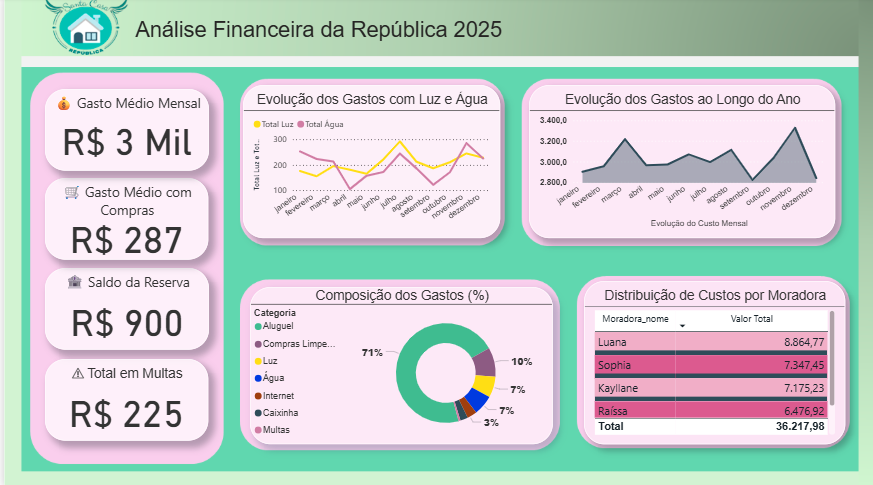

What the dashboard file says about the page in this screenshot:
{"tool":"powerbi","page":{"name":"👥 Distribuição de Custos por Moradora","canvas":[1280,720],"ordinal":0},"visuals":[{"type":"lineChart","title":" Evolução dos Gastos com Luz e Água","fields":{"Y":["FatoGastos.Total Luz","FatoGastos.Total Água"],"Category":["DimCalendario.Mes.Variation.Hierarquia de datas.Mês"]},"box":[351.2,129.3,377.6,224.8],"z":0},{"type":"card","title":"🏦 Saldo da Reserva","fields":{"Values":["FatoGastos.Total Caixinha"]},"box":[60,398.2,241,120.5],"z":1000},{"type":"card","title":"⚠ Total em Multas","fields":{"Values":["FatoGastos.Total Multas"]},"box":[60,531.9,239.5,120.5],"z":2000},{"type":"card","title":"🛒 Gasto Médio com Compras","fields":{"Values":["FatoGastos.Compras Limpeza – Média Mensal"]},"box":[60,266,239.5,120.5],"z":3000},{"type":"tableEx","title":" Distribuição de Custos por Moradora","fields":{"Values":["DimMoradora.Moradora_nome","FatoGastos.Valor Total"]},"box":[852.2,417.3,383.5,239.5],"z":4000},{"type":"card","title":"💰 Gasto Médio Mensal","fields":{"Values":["FatoGastos.Gasto Médio Mensal"]},"box":[60,135.2,241,120.5],"z":5000},{"type":"donutChart","title":" Composição dos Gastos (%)","fields":{"Y":["FatoGastos.Valor Total"],"Category":["DimCategoria.Categoria"]},"box":[361.5,426.1,445.2,230.7],"z":6000},{"type":"areaChart","title":" Evolução dos Gastos ao Longo do Ano","fields":{"Category":["DimCalendario.Mes.Variation.Hierarquia de datas.Mês"],"Y":["FatoGastos.Mês Mais Caro"]},"box":[771.4,129.3,449.6,224.8],"z":7000},{"type":"textbox","box":[117,25.4,689.5,109.4],"z":8000}]}

Visuals, with their boxes in screenshot pixels (x1, y1, x2, y2), scaled from the page's 1280x720 canvas onto the 873x485 screenshot:
" Evolução dos Gastos com Luz e Água" lineChart: rect(240, 87, 497, 239)
"🏦 Saldo da Reserva" card: rect(41, 268, 205, 349)
"⚠ Total em Multas" card: rect(41, 358, 204, 439)
"🛒 Gasto Médio com Compras" card: rect(41, 179, 204, 260)
" Distribuição de Custos por Moradora" tableEx: rect(581, 281, 843, 442)
"💰 Gasto Médio Mensal" card: rect(41, 91, 205, 172)
" Composição dos Gastos (%)" donutChart: rect(247, 287, 550, 442)
" Evolução dos Gastos ao Longo do Ano" areaChart: rect(526, 87, 833, 239)
textbox: rect(80, 17, 550, 91)
